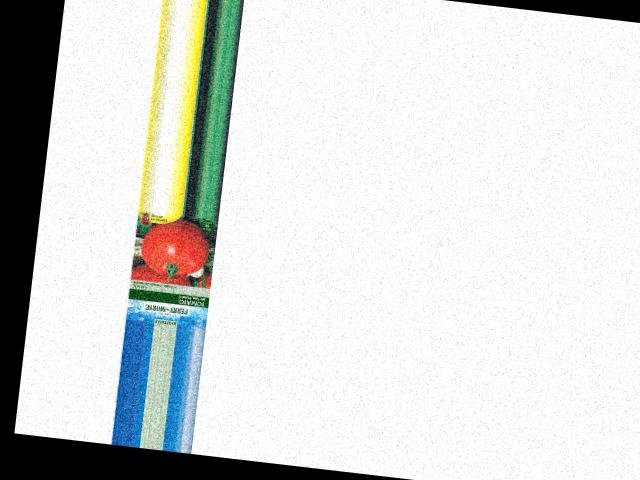tomato: (139, 214, 212, 278)
